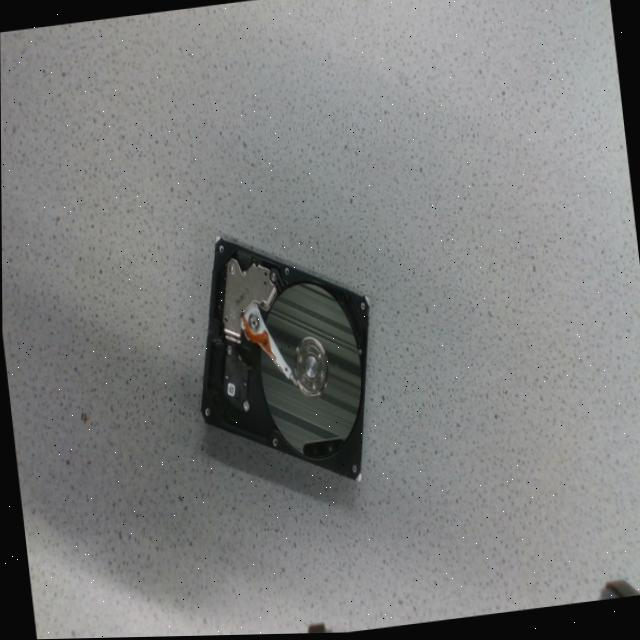actuator arm: (240, 301, 297, 386)
actuator axis: (249, 315, 257, 329)
case: (199, 239, 370, 481)
magnet: (222, 260, 275, 334)
pcb connector: (222, 345, 247, 411)
platter: (260, 285, 360, 458)
platter holder: (294, 337, 327, 397)
screw: (228, 262, 235, 275), (225, 345, 231, 356), (242, 401, 248, 412), (305, 343, 311, 354), (296, 356, 302, 366), (299, 375, 305, 385), (319, 372, 324, 382), (311, 383, 316, 392), (316, 350, 321, 359)
